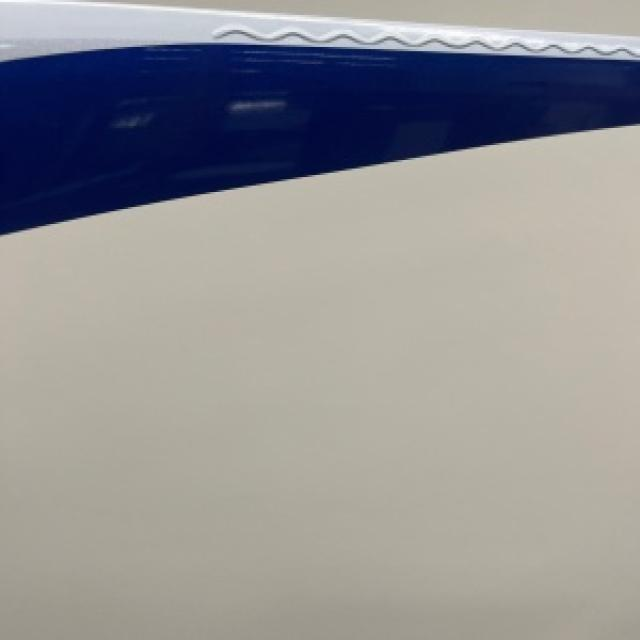healthy: (0, 0, 638, 230)
